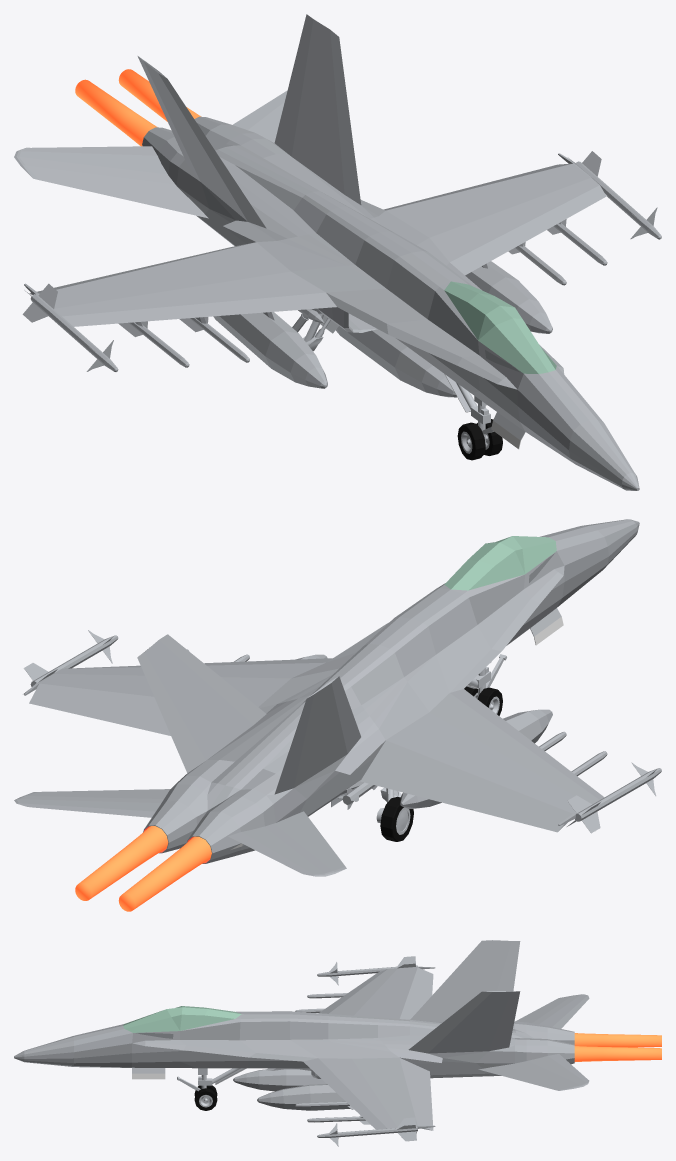
3 renders of one model, top to bottom at view 1: azimuth 30°, elevation 25°; view 2: azimuth 150°, elevation 25°; view 3: azimuth 270°, elevation 25°, orthographic. The views are drawn at different scales.
Parts seen in each view (by area): view 1: aircraft_0; view 2: aircraft_0; view 3: aircraft_0.
Part boxes in pixels (x1,y1,x2,y2): aircraft_0: (14, 14, 661, 490); aircraft_0: (14, 519, 661, 911); aircraft_0: (14, 940, 661, 1146).
Bounding box in the file's own units: 7.42 × 2.9 × 12.03.
